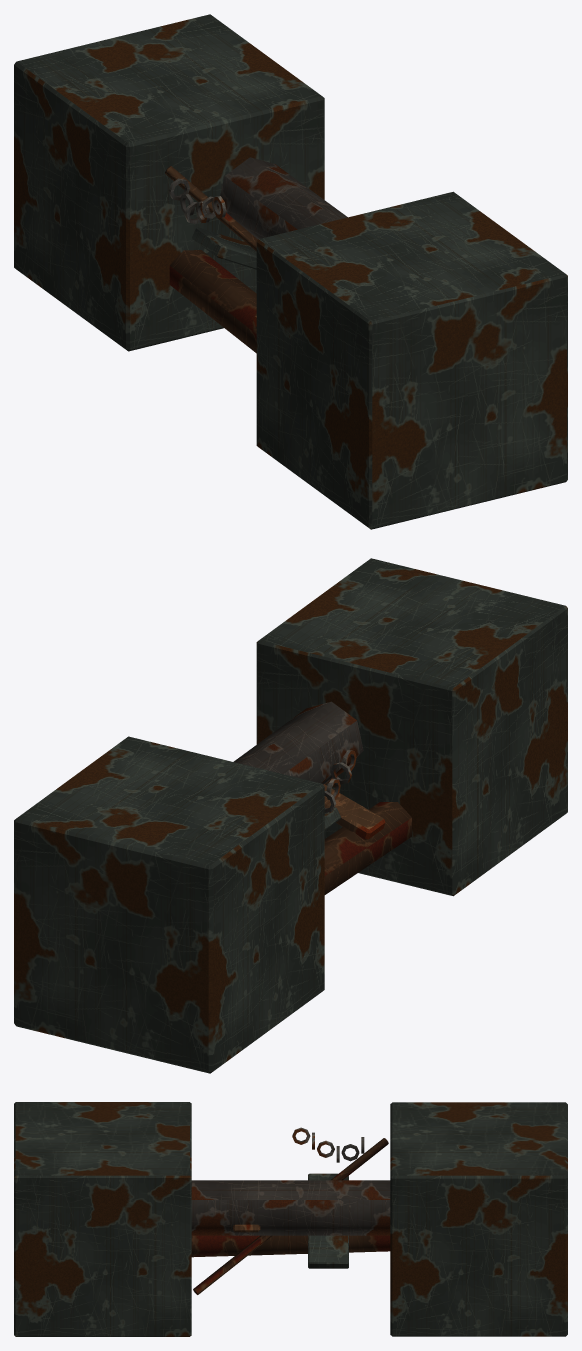
Rendered from R4C_STRUT_STANDARD_LOD1.glb.
3 renders of one model, top to bottom at view 1: azimuth 30°, elevation 25°; view 2: azimuth 150°, elevation 25°; view 3: azimuth 270°, elevation 25°, orthographic. The views are drawn at different scales.
Visible parts, largest first — view 1: R4C_STRUT_STANDARD_LOD1; view 2: R4C_STRUT_STANDARD_LOD1; view 3: R4C_STRUT_STANDARD_LOD1.
Boxes of the visible parts, x1,y1,x2,y2 form: R4C_STRUT_STANDARD_LOD1: (14, 14, 567, 529); R4C_STRUT_STANDARD_LOD1: (14, 558, 567, 1073); R4C_STRUT_STANDARD_LOD1: (14, 1102, 567, 1336).
Bounding box in the file's own units: 0.52 × 0.52 × 1.62.
3 materials, 3 textured.
